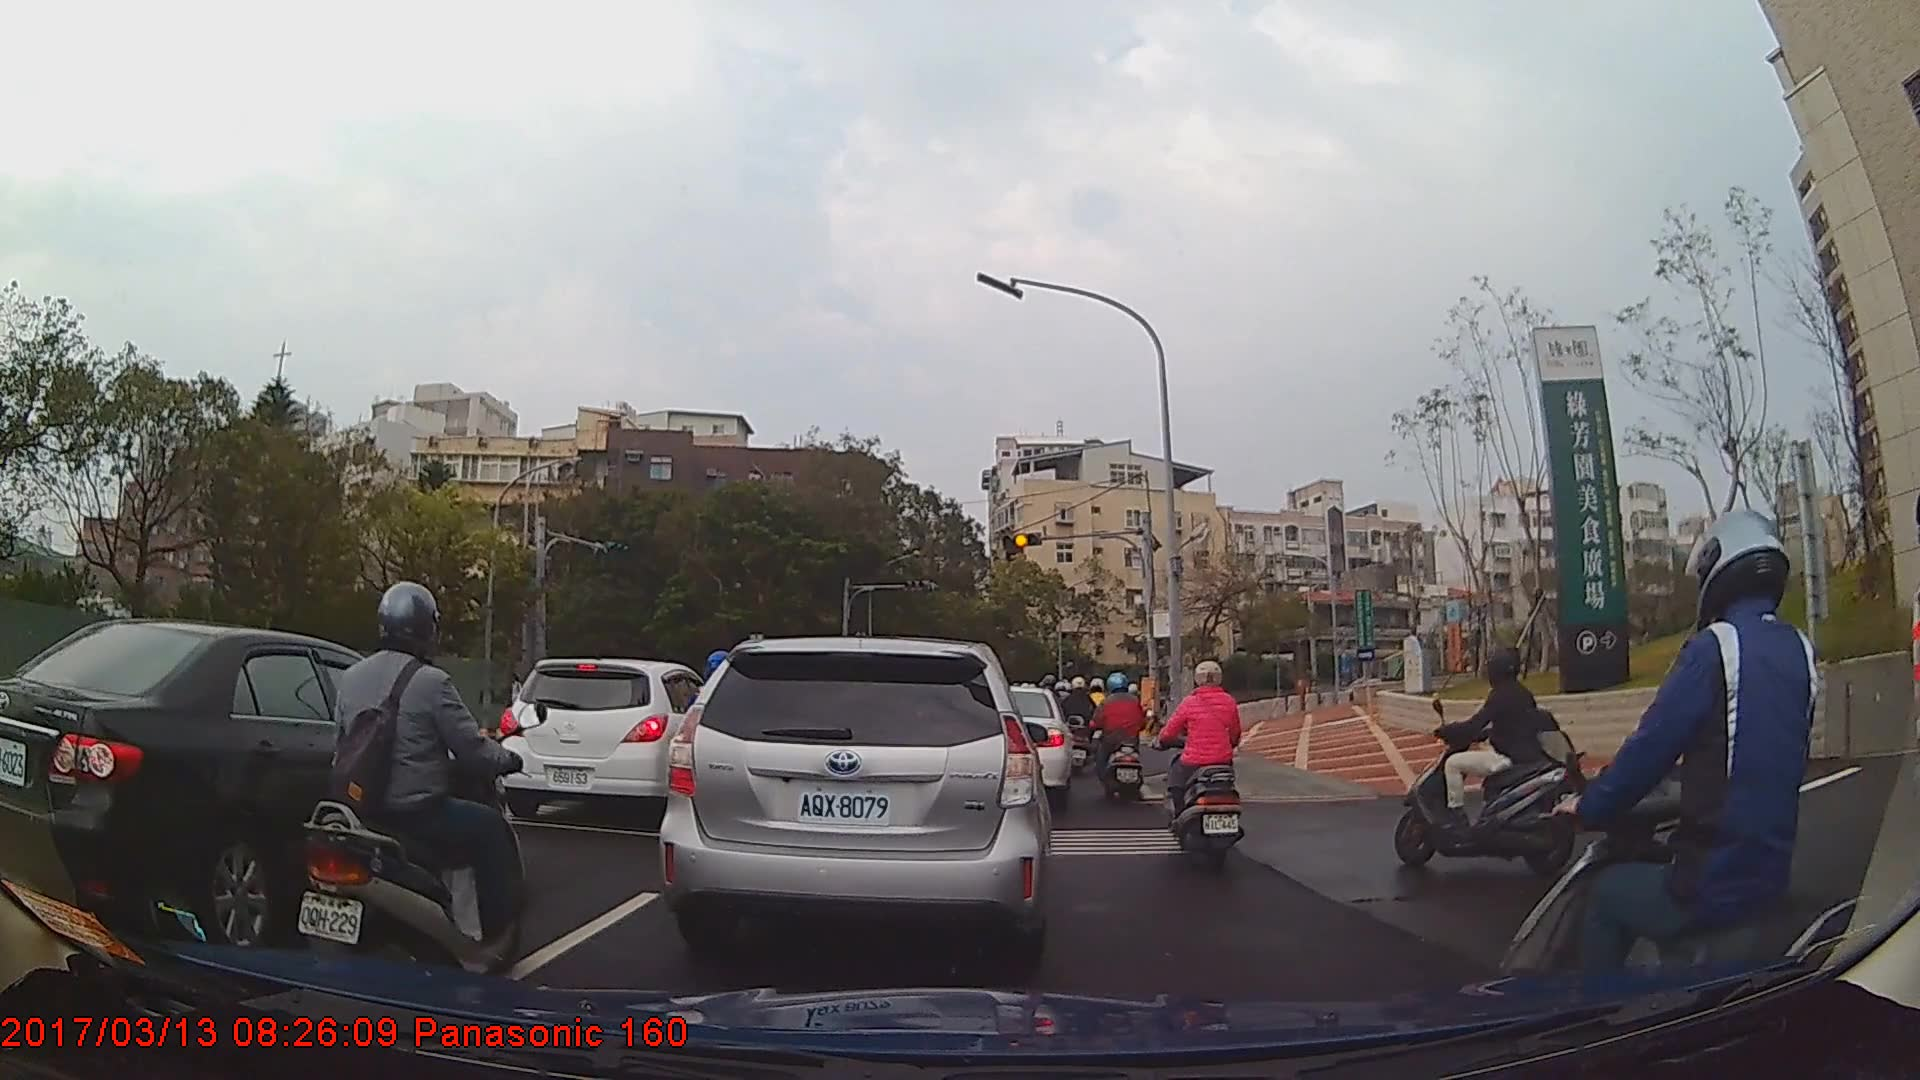pedestrian: (505, 673, 526, 729)
rider: (1501, 512, 1896, 1080), (294, 577, 530, 1006), (1396, 650, 1590, 872), (1162, 657, 1246, 871), (1092, 669, 1153, 813), (1064, 674, 1103, 777)
vehicle: (0, 615, 504, 961), (656, 635, 1049, 962), (495, 658, 725, 826), (963, 686, 1074, 806)
